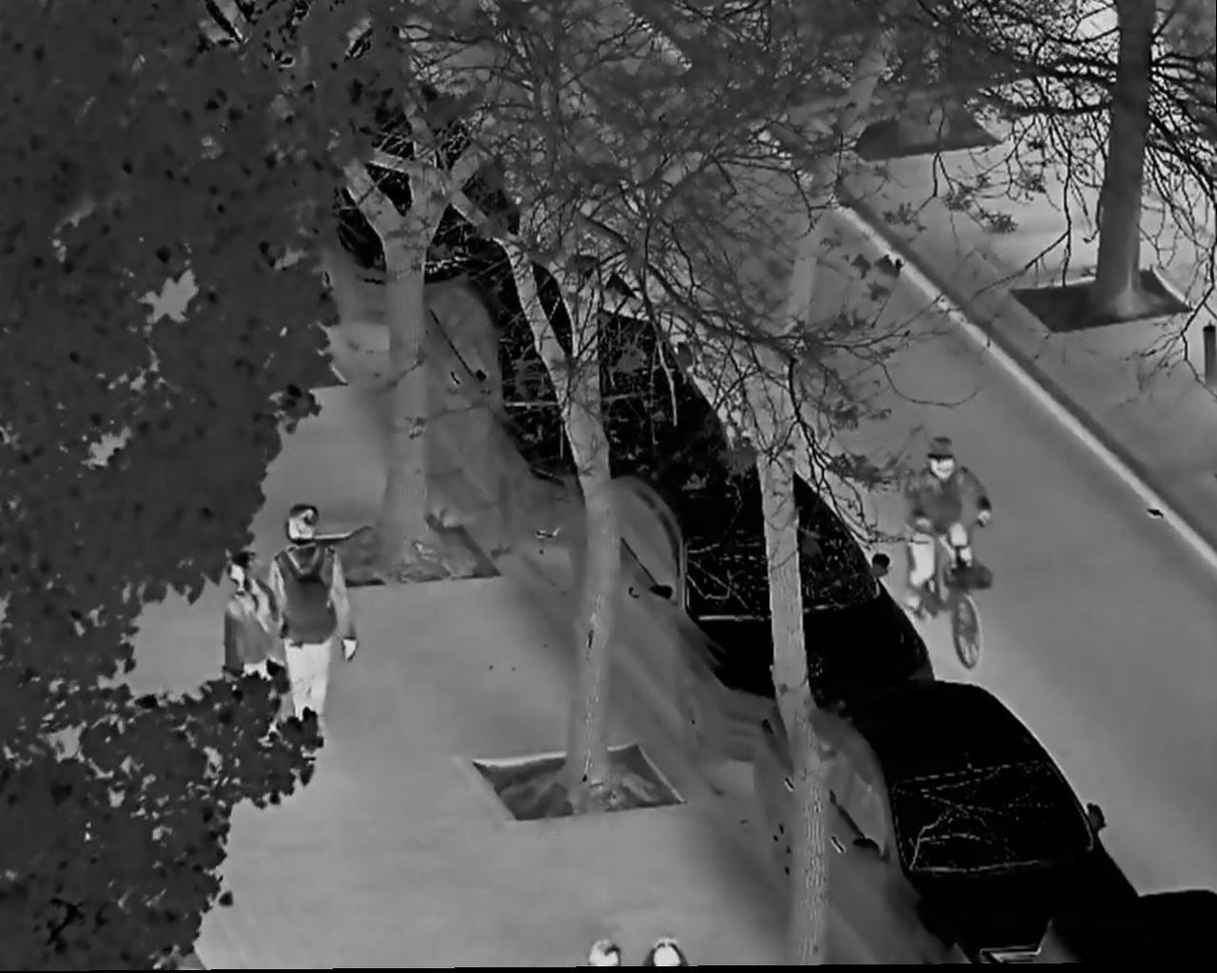person: (265, 505, 356, 745), (903, 442, 995, 620), (220, 546, 288, 747)
